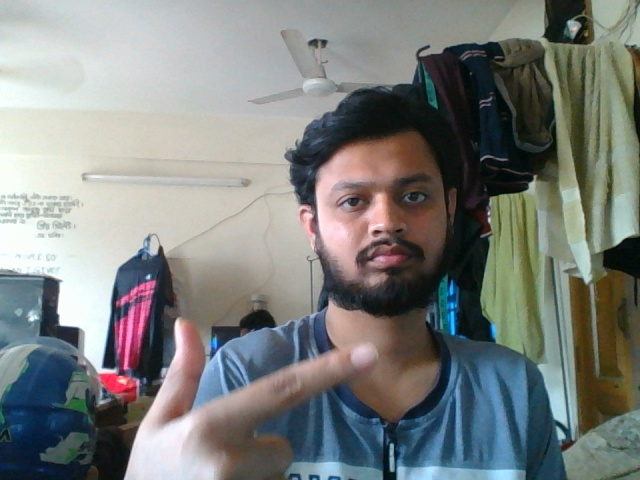tho: (114, 314, 382, 480)
